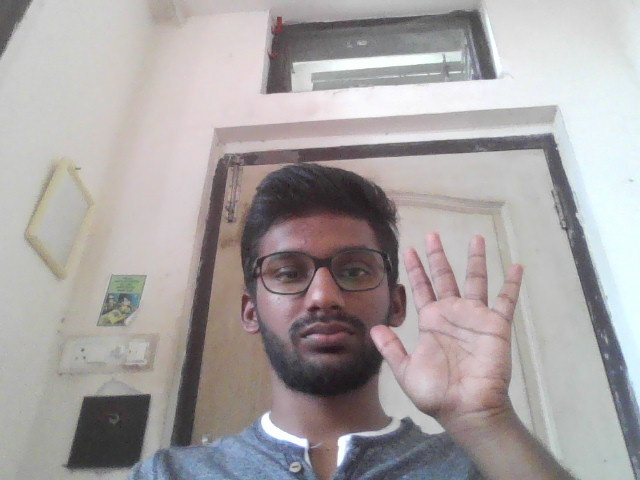Hello: (362, 230, 526, 423)
